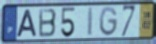5: (61, 6, 77, 39)
7: (121, 4, 137, 38)
A: (16, 9, 39, 39)
B: (38, 8, 58, 39)
G: (99, 5, 119, 38)
I: (87, 6, 95, 38)
